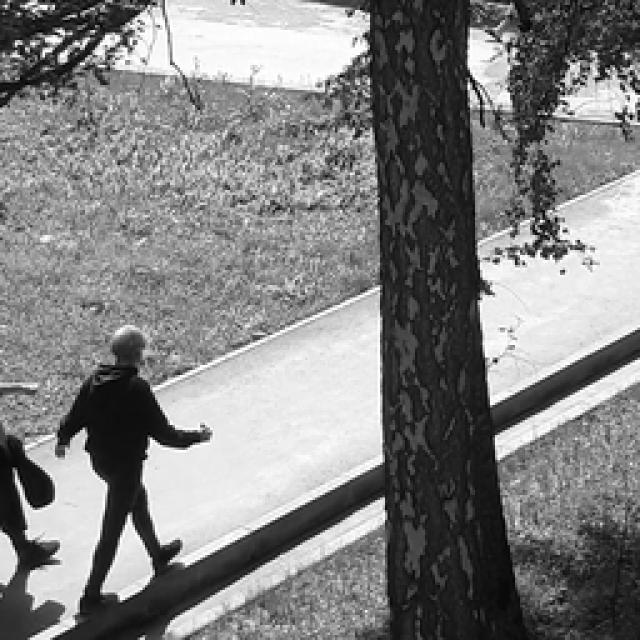Invader: (48, 325, 214, 627), (0, 357, 64, 566)
